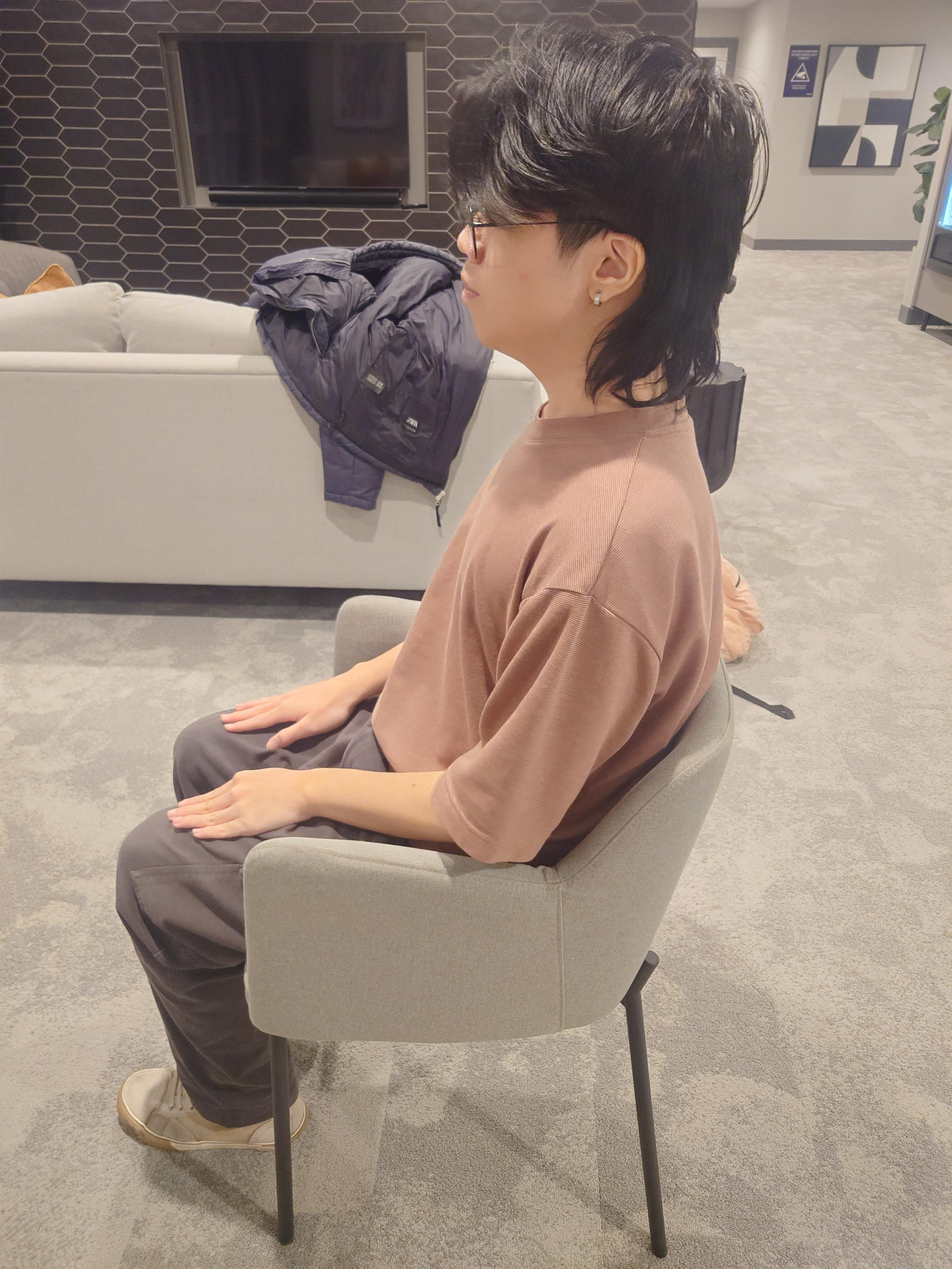GoodPosture: (115, 23, 758, 1151)
